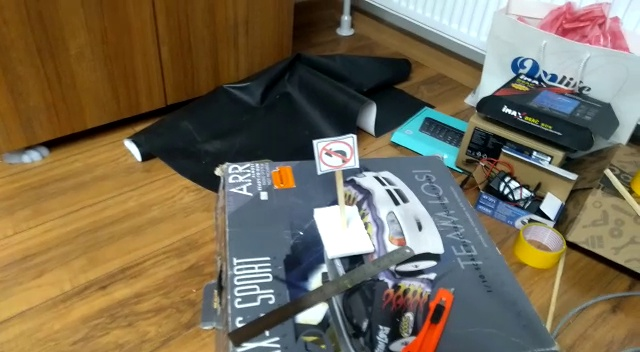sola_donulmez: (319, 136, 354, 171)
